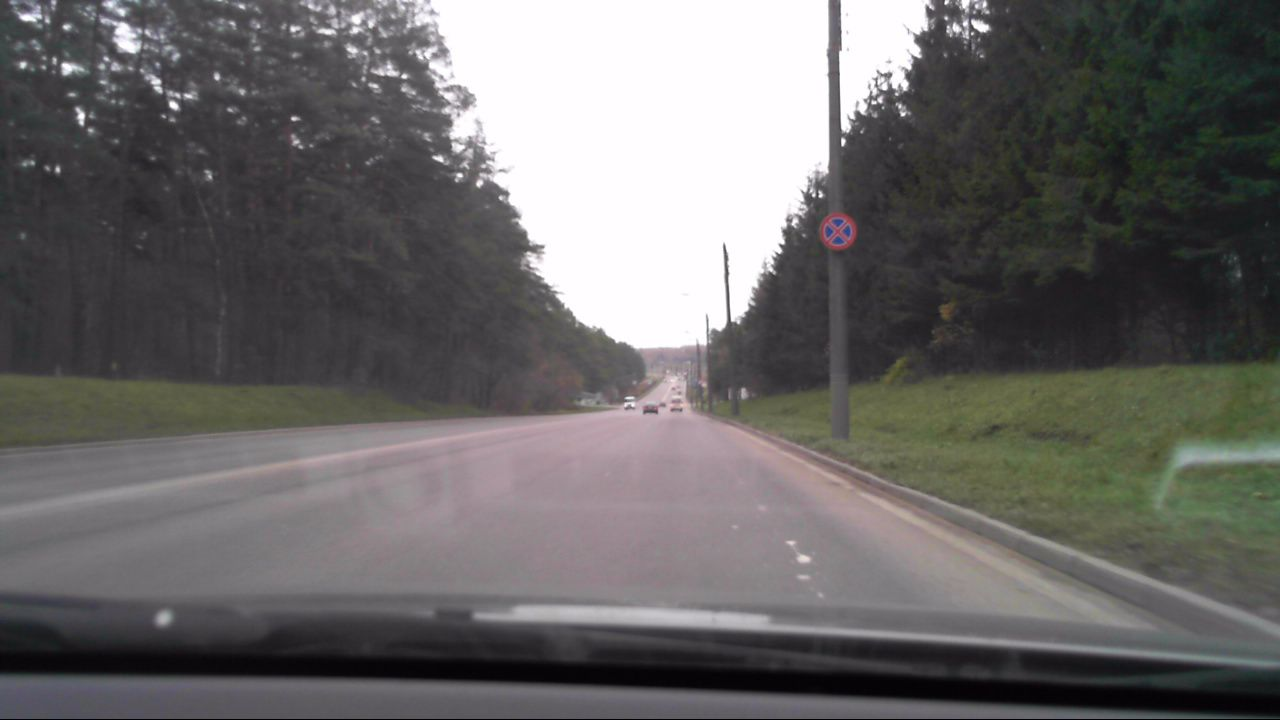No Parking: (816, 211, 855, 254)
